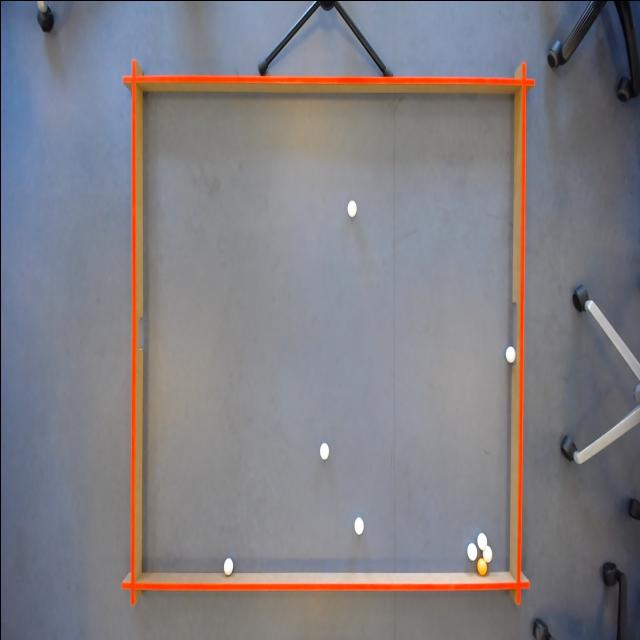orange_ball: (476, 557, 486, 577)
white_ball: (343, 194, 358, 218), (352, 513, 366, 537), (220, 552, 234, 576), (465, 538, 477, 562), (318, 440, 330, 462), (504, 344, 515, 364), (476, 530, 486, 550), (482, 542, 492, 562)
